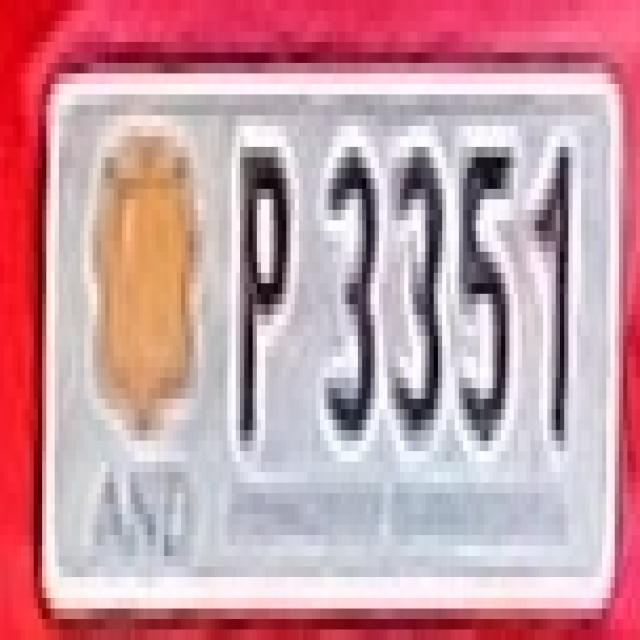1: (522, 116, 577, 430)
3: (371, 105, 446, 430), (307, 105, 379, 430)
5: (438, 116, 522, 430)
P: (219, 105, 299, 441)
